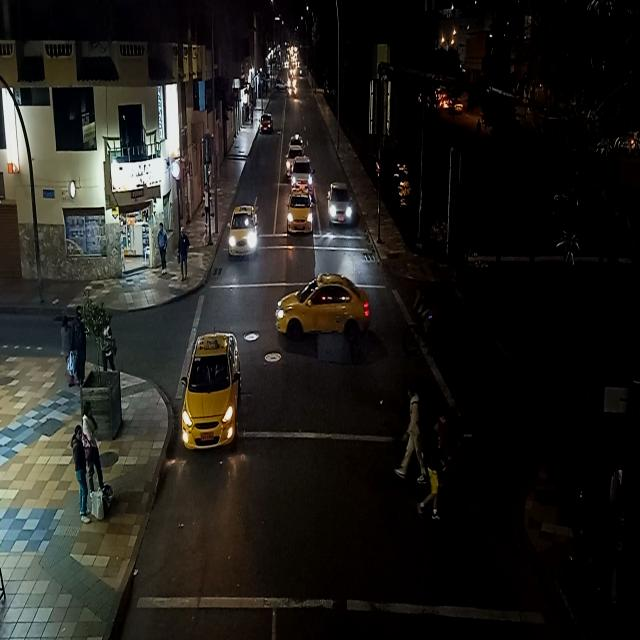CMT: (291, 159, 314, 194)
SED: (182, 336, 240, 450), (277, 277, 371, 337)
